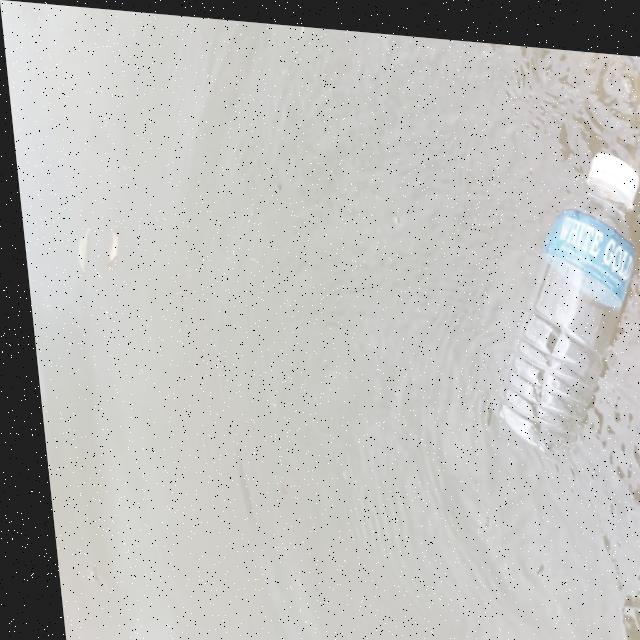waterbottle: (459, 105, 640, 491)
